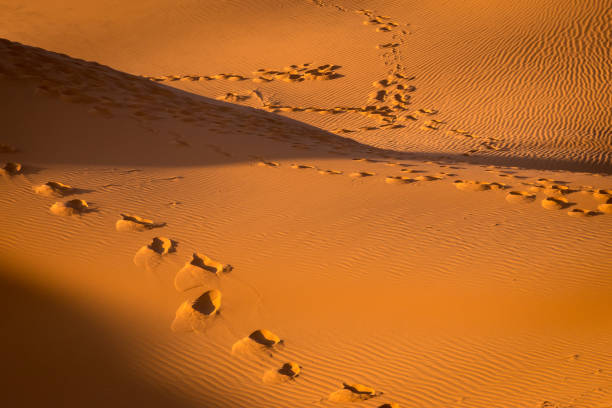animal_foot_print: (175, 252, 232, 290), (171, 289, 221, 331), (253, 64, 342, 81), (115, 213, 165, 231), (34, 181, 76, 196), (50, 199, 88, 214), (249, 329, 281, 346), (148, 237, 175, 254), (150, 75, 213, 81), (343, 383, 376, 394), (506, 191, 535, 202), (541, 197, 568, 208), (207, 144, 230, 155), (279, 364, 298, 377), (568, 209, 600, 216), (385, 176, 414, 183), (3, 163, 21, 173), (370, 90, 385, 101), (172, 136, 189, 145), (374, 79, 390, 87), (318, 169, 342, 174), (378, 402, 400, 407), (258, 160, 279, 165), (350, 173, 375, 177), (291, 164, 312, 167), (396, 84, 405, 88)
